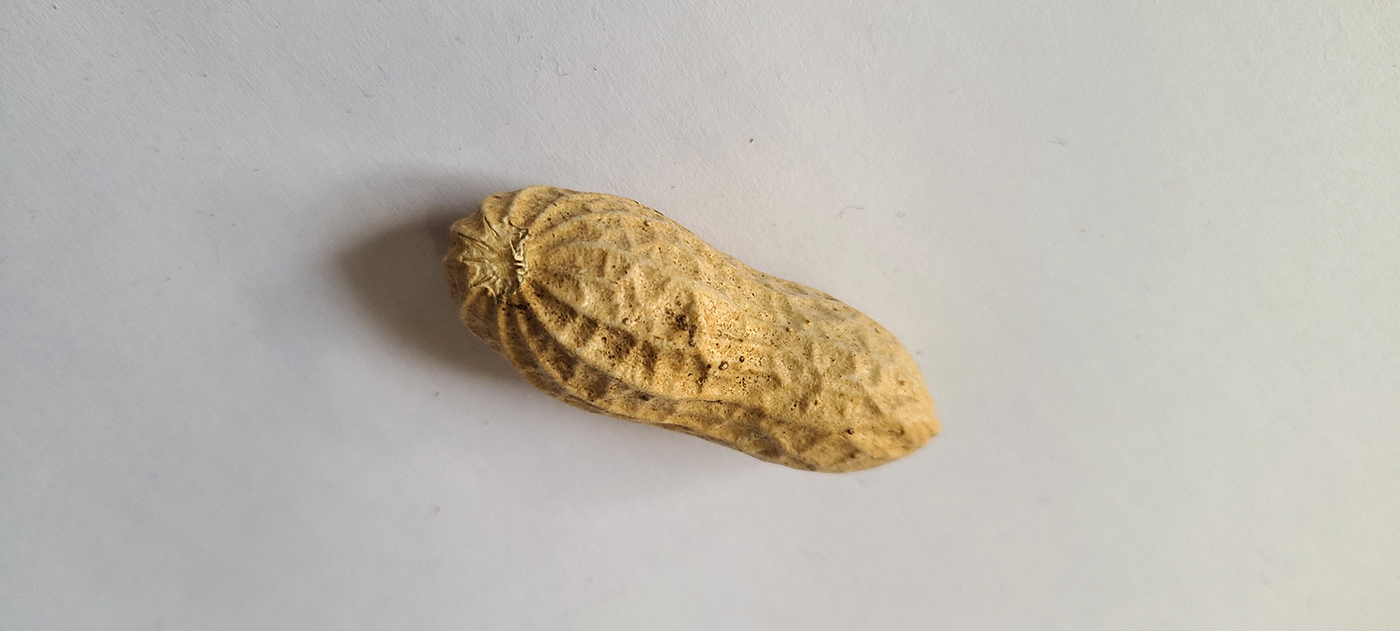h: (439, 183, 944, 474)
